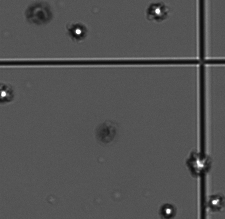Dead Cell: (25, 4, 54, 25), (96, 122, 118, 143)
Living Cell: (187, 152, 211, 176), (146, 2, 170, 22), (66, 22, 89, 41), (1, 83, 13, 108), (158, 203, 179, 217), (206, 193, 222, 210)
